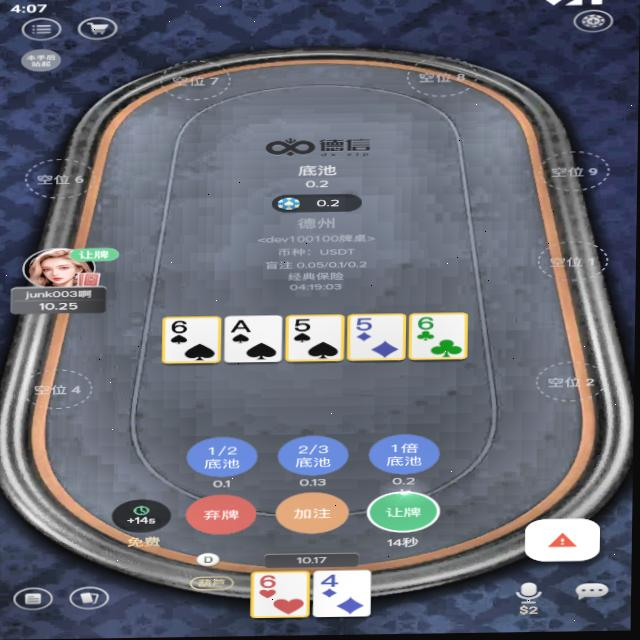4f: (320, 573, 343, 591)
5f: (354, 316, 377, 333)
5s: (293, 317, 315, 334)
6h: (257, 574, 284, 591)
6m: (417, 317, 439, 333)
6s: (168, 318, 192, 335)
As: (230, 318, 253, 335)
